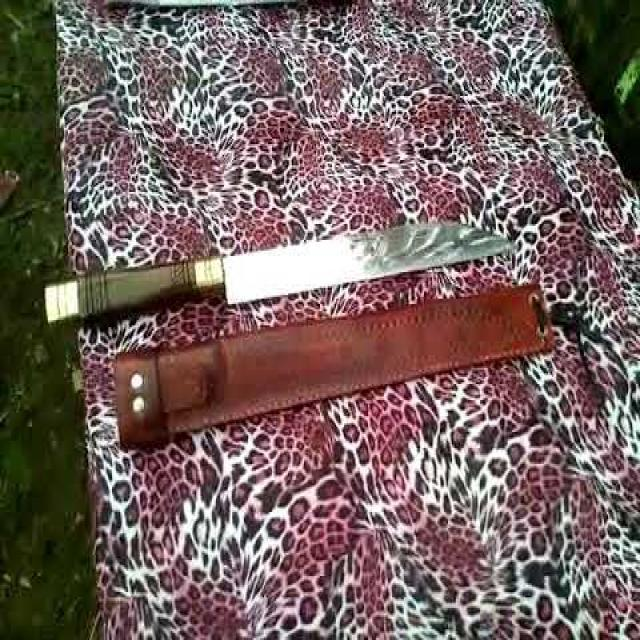Pisau: (35, 207, 528, 338)
